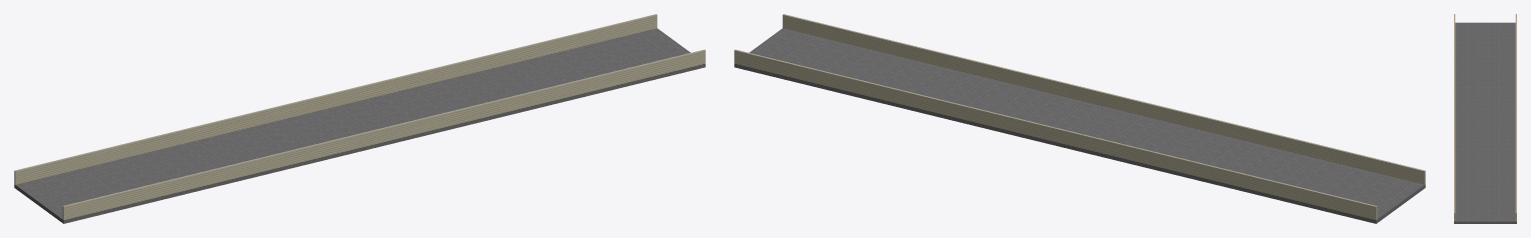
File: bridge_main_farmroad.glb
3 renders of one model, left to right at view 1: azimuth 30°, elevation 25°; view 2: azimuth 150°, elevation 25°; view 3: azimuth 270°, elevation 25°, orthographic. The views are drawn at different scales.
Parts seen in each view (by area): view 1: bridge_main_farmroad-col; view 2: bridge_main_farmroad-col; view 3: bridge_main_farmroad-col.
Part boxes in pixels (x1,y1,x2,y2): bridge_main_farmroad-col: (14,14,705,223); bridge_main_farmroad-col: (734,14,1425,223); bridge_main_farmroad-col: (1454,14,1516,223).
Bounding box in the file's own units: 45 × 1.15 × 6.
Materials: 2 (2 with a texture image).
